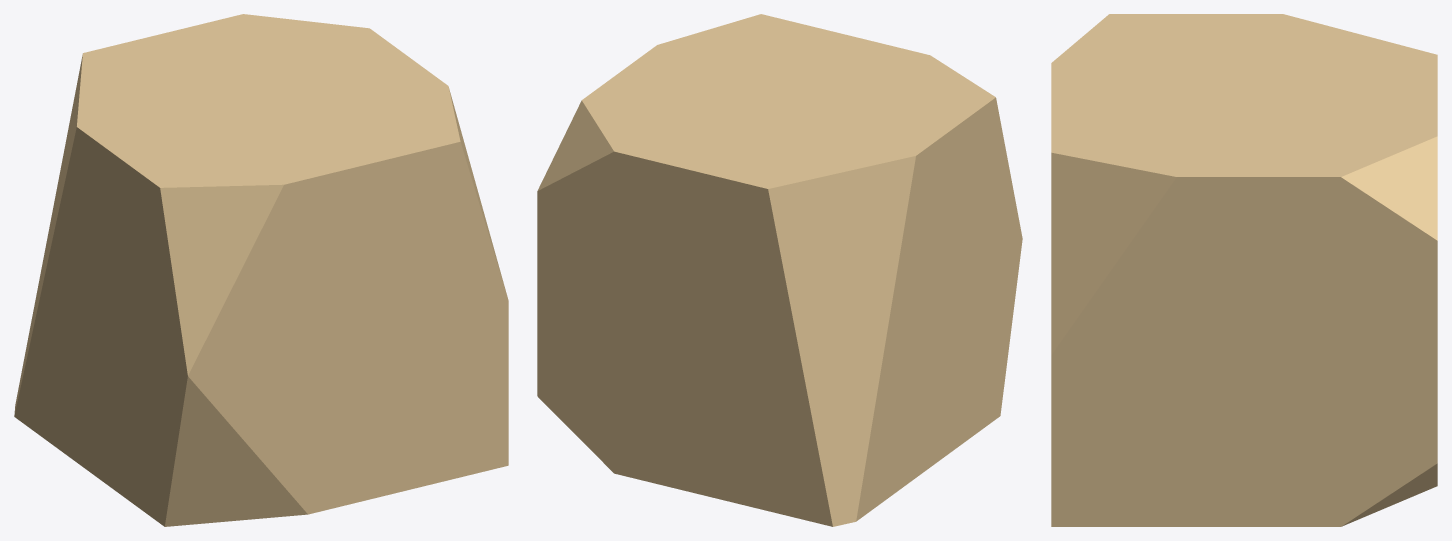
3 views of the same model, side by side, from view 1: azimuth 30°, elevation 25°; view 2: azimuth 150°, elevation 25°; view 3: azimuth 270°, elevation 25° (orthographic). The views are drawn at different scales.
Parts seen in each view (by area): view 1: 000_105-09-002-A; view 2: 000_105-09-002-A; view 3: 000_105-09-002-A.
Boxes of the visible parts, x1,y1,x2,y2 form: 000_105-09-002-A: (14,14,508,526); 000_105-09-002-A: (537,14,1022,526); 000_105-09-002-A: (1051,14,1437,526).
Size of the model in its own units: 0.4 by 0.4 by 0.4.
